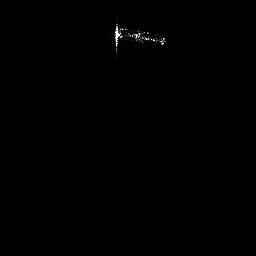ship: (111, 19, 166, 55)
